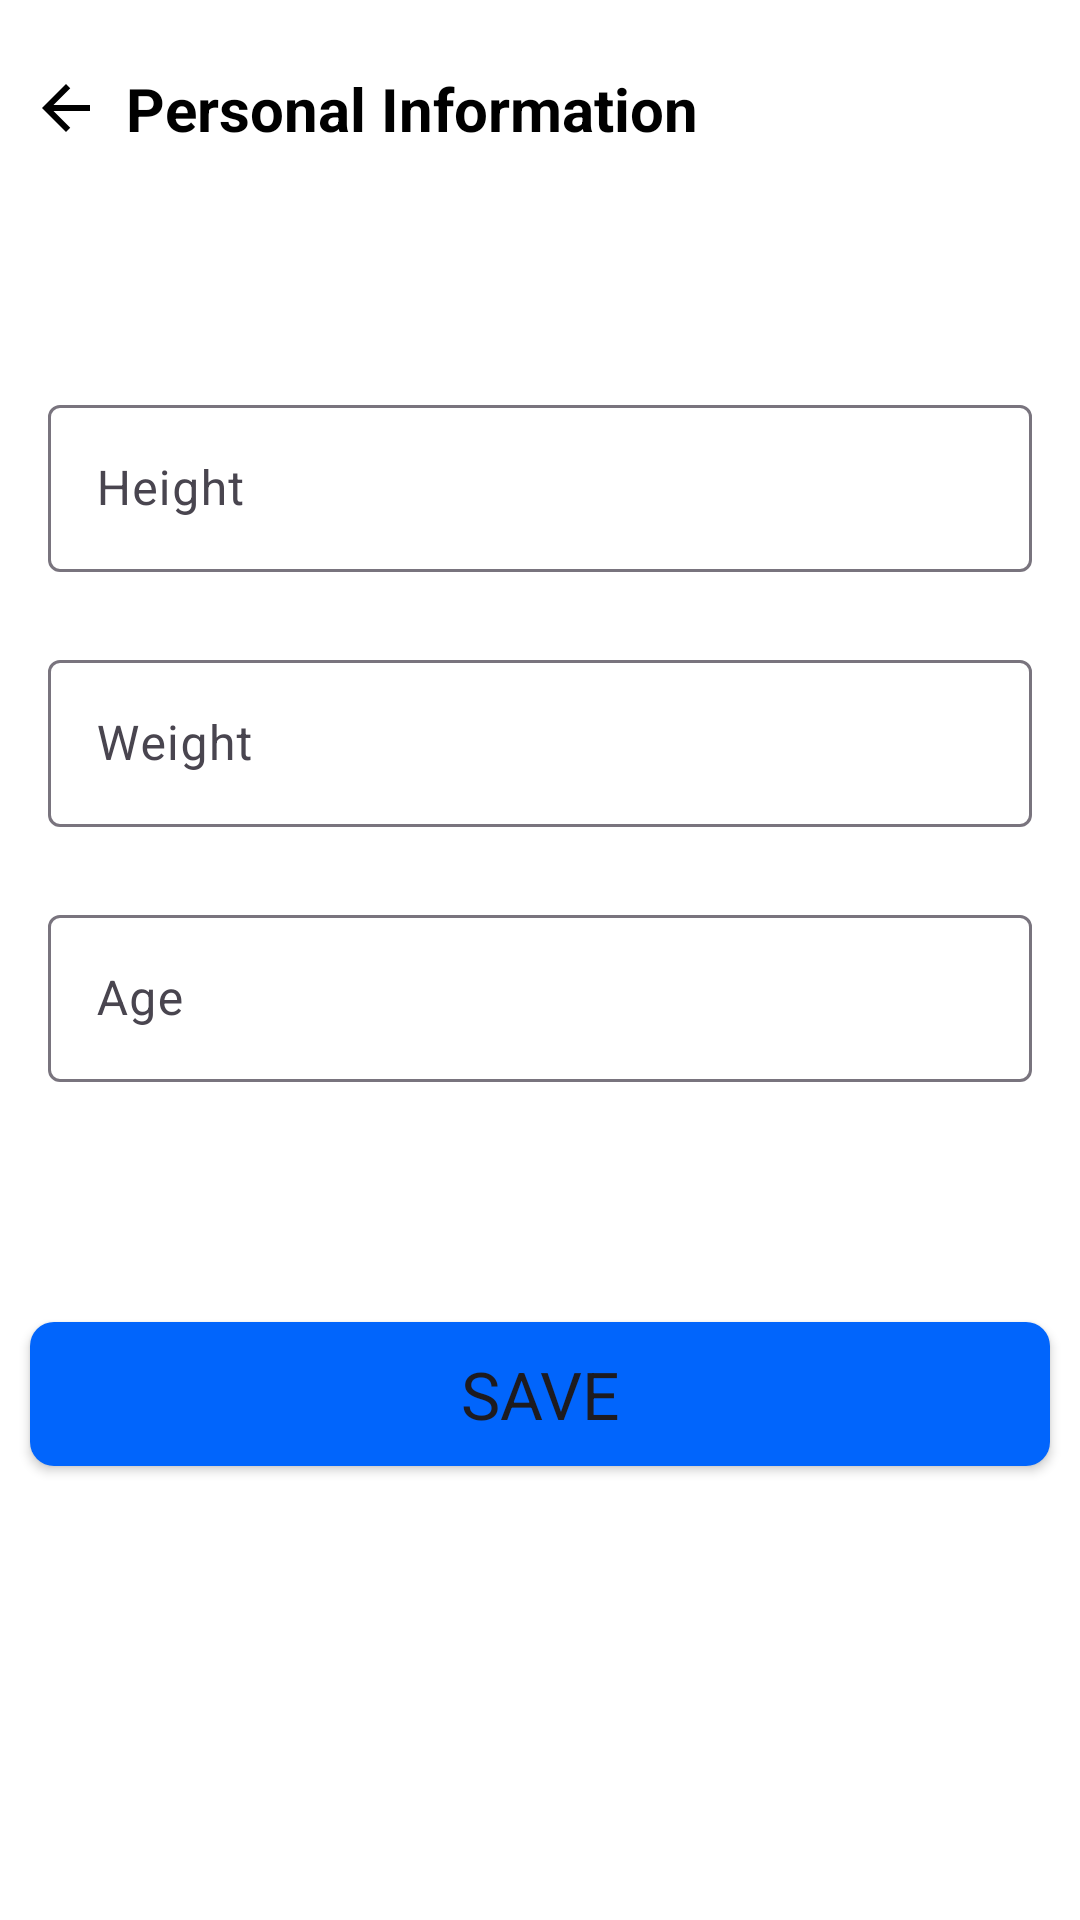

Screen size 1080 x 1920. Icon name, then its box in pixels as (x1, y1, x2, y2):
left arrow: (42, 84, 90, 132)
